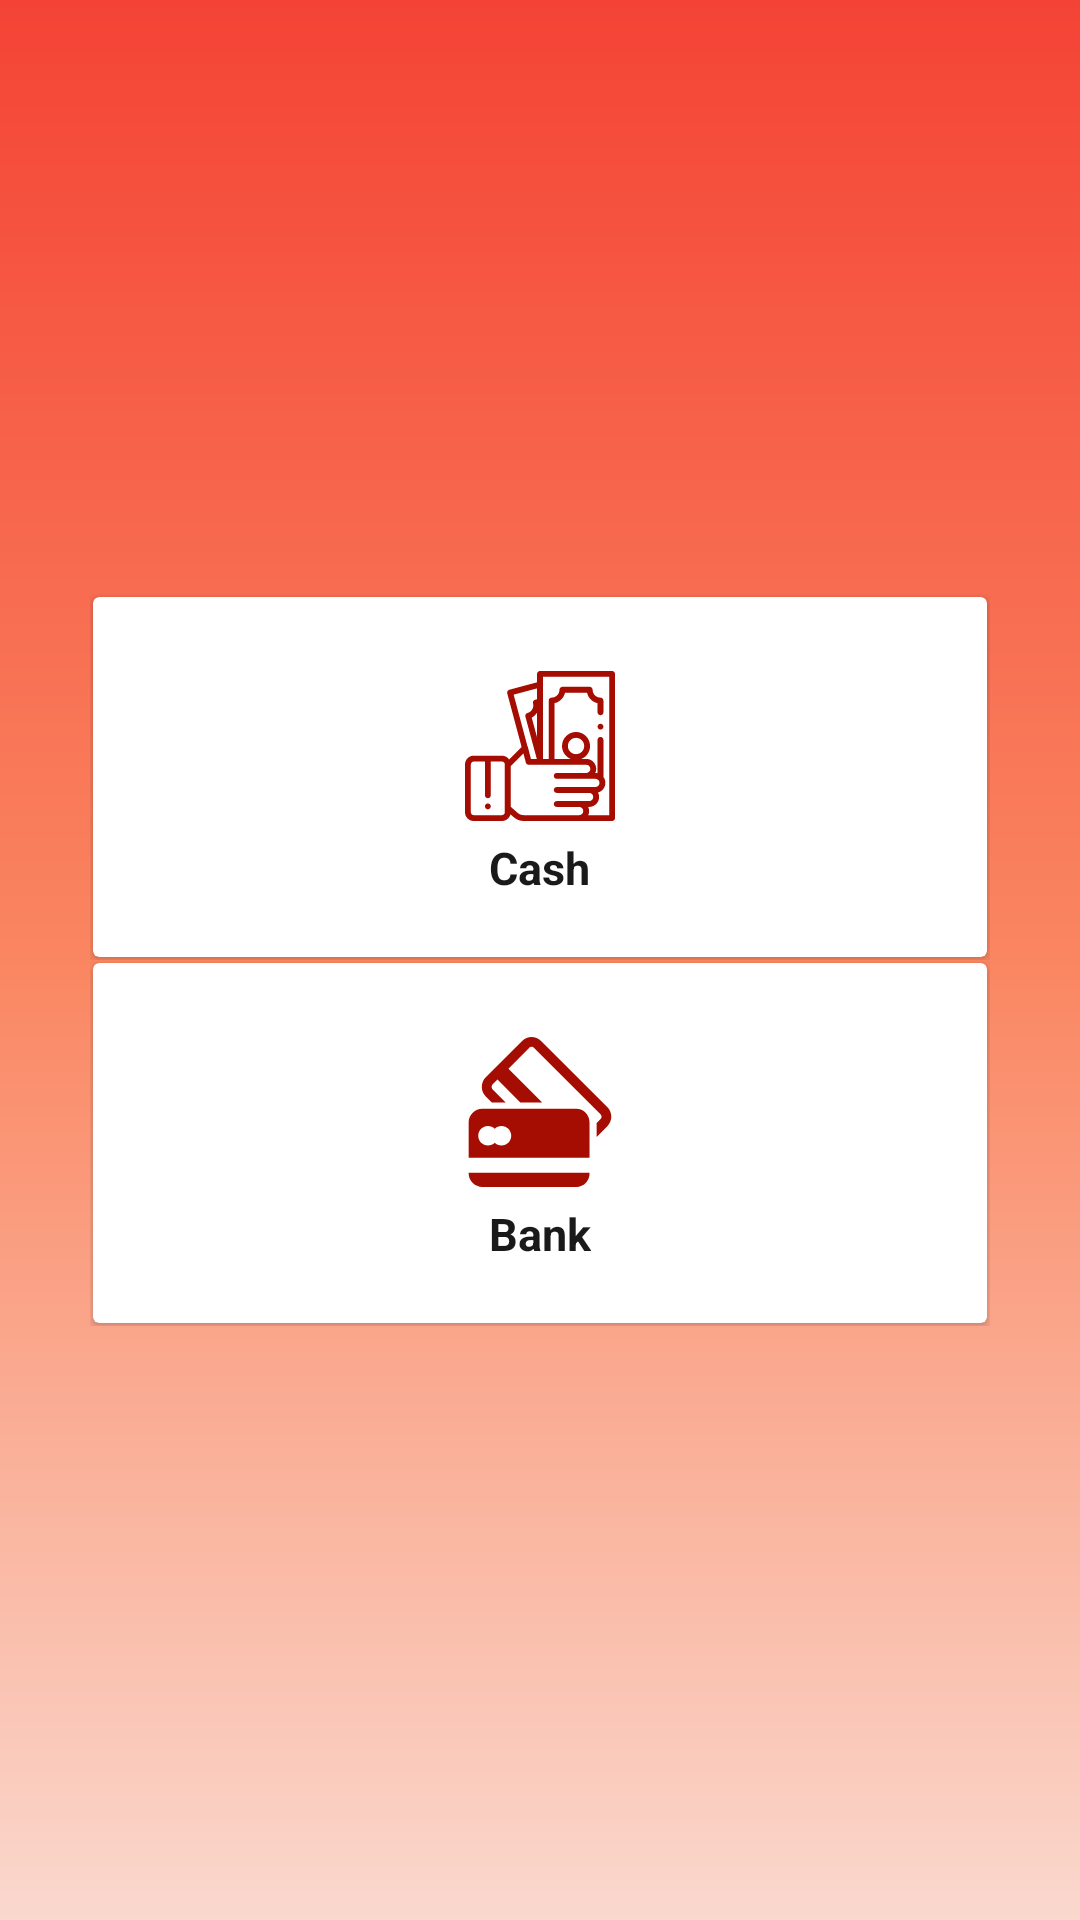

Icon bounding boxes for this 1080 × 1920 phone screenshot, format (x1, y1, x2, y2):
cards payment: (468, 1037, 612, 1187)
